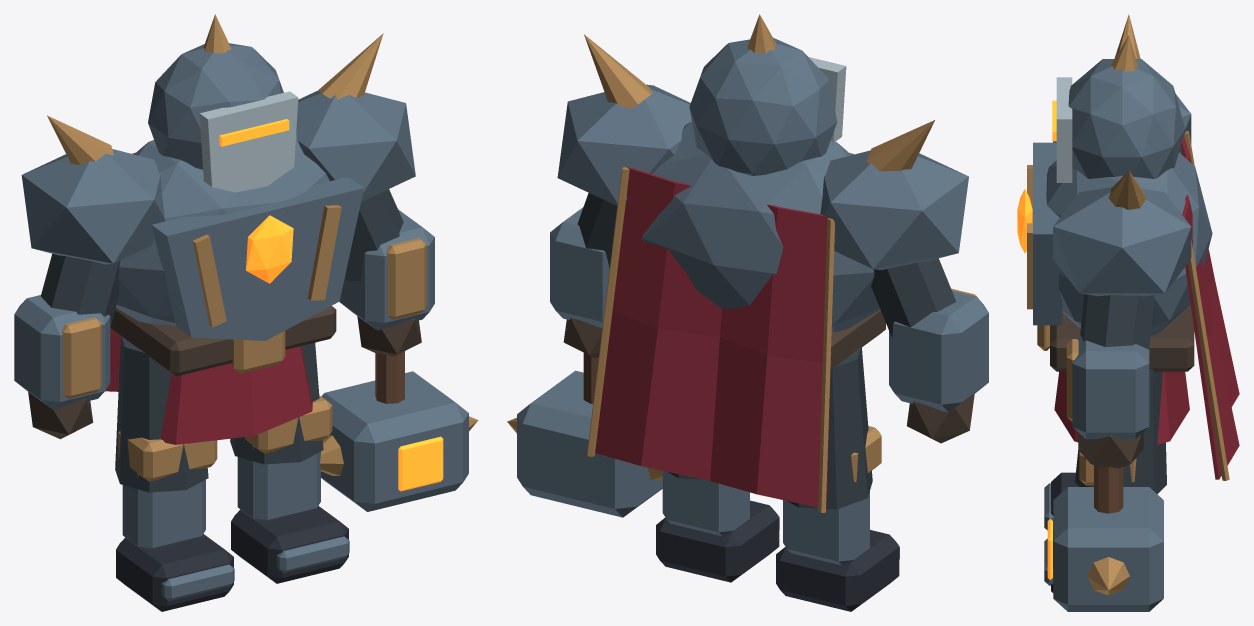
The model's file is brute.glb.
3 renders of one model, left to right at view 1: azimuth 30°, elevation 25°; view 2: azimuth 150°, elevation 25°; view 3: azimuth 270°, elevation 25°, orthographic. The views are drawn at different scales.
Visible parts, largest first — view 1: brute_body_mesh, brute_arm_l_mesh, brute_arm_r_mesh, brute_leg_l_mesh, brute_head_mesh, brute_weapon_mesh, brute_leg_r_mesh, brute_cape_mesh; view 2: brute_cape_mesh, brute_arm_l_mesh, brute_body_mesh, brute_arm_r_mesh, brute_head_mesh, brute_leg_l_mesh, brute_weapon_mesh, brute_leg_r_mesh; view 3: brute_arm_r_mesh, brute_body_mesh, brute_weapon_mesh, brute_head_mesh, brute_cape_mesh, brute_leg_r_mesh, brute_leg_l_mesh, brute_arm_l_mesh.
Part boxes in pixels (left/top/right/bottom): brute_body_mesh: left=110, top=132, right=363, bottom=444; brute_arm_l_mesh: left=14, top=115, right=165, bottom=439; brute_arm_r_mesh: left=296, top=33, right=434, bottom=356; brute_leg_l_mesh: left=115, top=336, right=234, bottom=611; brute_head_mesh: left=148, top=14, right=298, bottom=192; brute_weapon_mesh: left=320, top=351, right=478, bottom=511; brute_leg_r_mesh: left=230, top=342, right=349, bottom=583; brute_cape_mesh: left=105, top=152, right=135, bottom=391; brute_cape_mesh: left=587, top=167, right=834, bottom=512; brute_arm_l_mesh: left=820, top=120, right=988, bottom=443; brute_body_mesh: left=642, top=121, right=885, bottom=369; brute_arm_r_mesh: left=550, top=34, right=691, bottom=357; brute_head_mesh: left=689, top=14, right=846, bottom=175; brute_leg_l_mesh: left=776, top=347, right=899, bottom=611; brute_weapon_mesh: left=507, top=353, right=662, bottom=517; brute_leg_r_mesh: left=656, top=471, right=779, bottom=582; brute_arm_r_mesh: left=1053, top=171, right=1191, bottom=468; brute_body_mesh: left=1017, top=142, right=1212, bottom=444; brute_weapon_mesh: left=1047, top=465, right=1163, bottom=611; brute_head_mesh: left=1052, top=35, right=1185, bottom=182; brute_cape_mesh: left=1181, top=131, right=1239, bottom=480; brute_leg_r_mesh: left=1044, top=369, right=1166, bottom=592; brute_leg_l_mesh: left=1044, top=472, right=1078, bottom=532; brute_arm_l_mesh: left=1053, top=14, right=1191, bottom=154.
Size of the model in its own units: 2.19 by 2.56 by 0.984.
